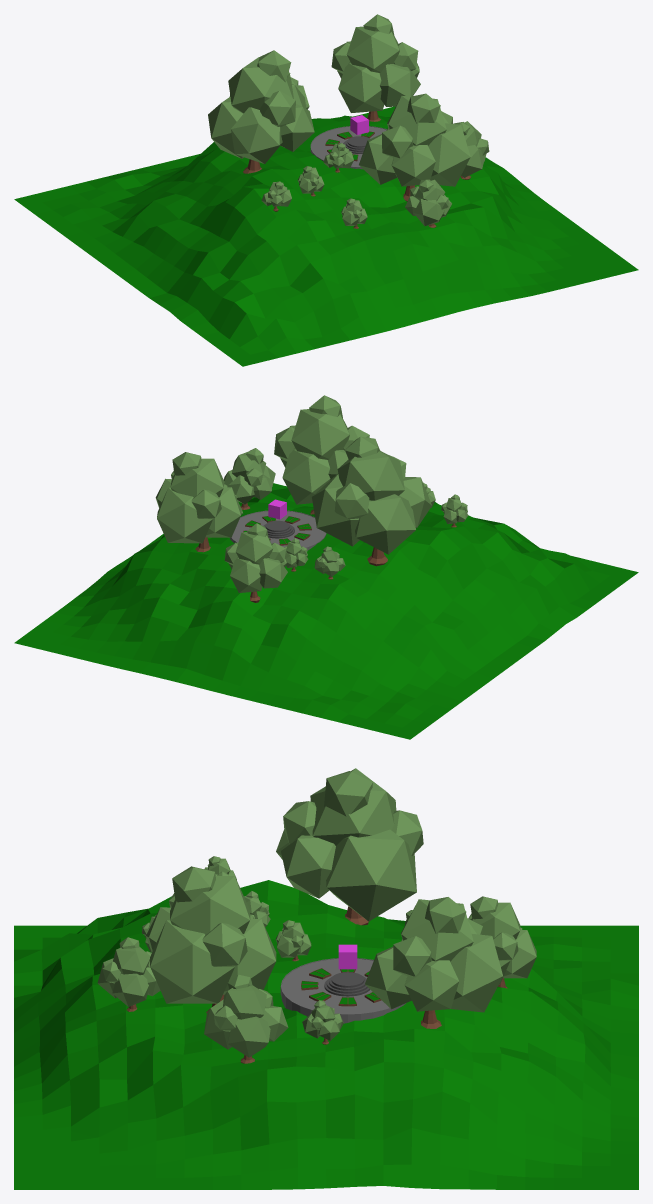
The model's file is island.glb.
3 views of the same model, one above another, from view 1: azimuth 30°, elevation 25°; view 2: azimuth 150°, elevation 25°; view 3: azimuth 270°, elevation 25° (orthographic). The views are drawn at different scales.
Parts seen in each view (by area): view 1: terrain, Icosphere.002, Icosphere.025, Icosphere.020, Icosphere.028, Icosphere.029, Cylinder, Icosphere.027, Icosphere.009, Icosphere.001, Icosphere.026; view 2: terrain, Icosphere.002, Icosphere.020, Icosphere.025, Icosphere.013, Icosphere.029, Cylinder, Icosphere.003, Icosphere.027, Icosphere.005; view 3: terrain, Icosphere.002, Icosphere.025, Icosphere.020, Icosphere.029, Cylinder, Icosphere.013, Icosphere.028, Icosphere.024, Icosphere.009, Cylinder.003.
Part boxes in pixels (left/top/right/bottom): terrain: left=14, top=106, right=638, bottom=366; Icosphere.002: left=208, top=50, right=314, bottom=173; Icosphere.025: left=359, top=93, right=470, bottom=201; Icosphere.020: left=331, top=14, right=420, bottom=121; Icosphere.028: left=405, top=179, right=451, bottom=227; Icosphere.029: left=453, top=121, right=489, bottom=179; Cylinder: left=310, top=126, right=386, bottom=169; Icosphere.027: left=261, top=181, right=291, bottom=211; Icosphere.009: left=323, top=143, right=353, bottom=172; Icosphere.001: left=297, top=166, right=324, bottom=196; Icosphere.026: left=341, top=198, right=367, bottom=228; terrain: left=14, top=483, right=638, bottom=739; Icosphere.002: left=312, top=436, right=431, bottom=566; Icosphere.020: left=155, top=452, right=241, bottom=552; Icosphere.025: left=274, top=395, right=369, bottom=514; Icosphere.013: left=224, top=523, right=287, bottom=602; Icosphere.029: left=224, top=448, right=275, bottom=509; Cylinder: left=230, top=510, right=326, bottom=550; Icosphere.003: left=314, top=546, right=345, bottom=579; Icosphere.027: left=441, top=494, right=468, bottom=527; Icosphere.005: left=284, top=538, right=308, bottom=571; terrain: left=14, top=880, right=638, bottom=1189; Icosphere.002: left=276, top=768, right=423, bottom=925; Icosphere.025: left=146, top=866, right=276, bottom=1012; Icosphere.020: left=365, top=897, right=502, bottom=1028; Icosphere.029: left=204, top=974, right=288, bottom=1063; Cylinder: left=280, top=958, right=405, bottom=1023; Icosphere.013: left=468, top=896, right=536, bottom=988; Icosphere.028: left=97, top=937, right=160, bottom=1011; Icosphere.024: left=302, top=1000, right=343, bottom=1044; Icosphere.009: left=275, top=920, right=311, bottom=961; Cylinder.003: left=324, top=972, right=369, bottom=996.
Size of the model in its own units: 300 by 136 by 300.
